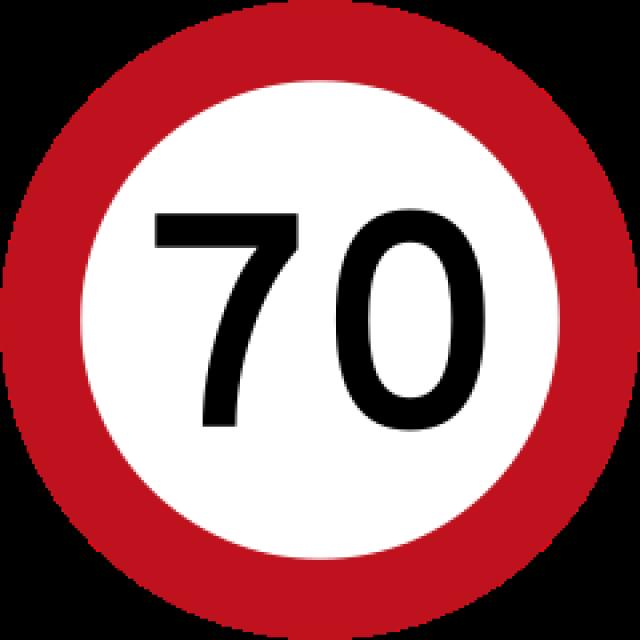Speed Limit -70-: (113, 161, 508, 460)
